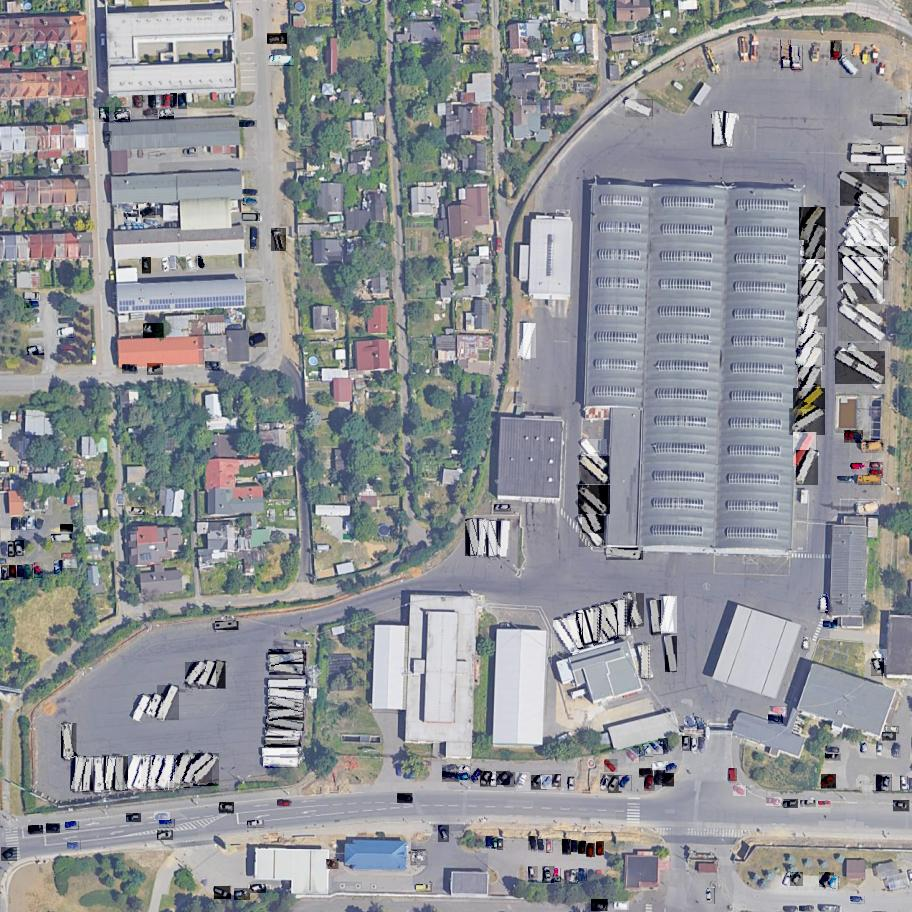large-vehicle: (849, 219, 891, 264), (838, 304, 886, 342), (844, 256, 885, 300), (843, 282, 879, 332), (839, 246, 890, 281), (847, 225, 883, 274), (840, 172, 891, 206), (835, 351, 885, 385), (848, 217, 900, 247), (790, 408, 826, 436), (848, 343, 880, 374), (793, 388, 825, 419), (798, 264, 828, 297), (795, 334, 825, 367), (180, 753, 212, 783), (860, 192, 891, 222), (798, 296, 828, 327), (582, 439, 611, 471), (578, 485, 610, 514), (800, 207, 827, 241), (800, 281, 826, 316), (554, 620, 580, 655), (579, 456, 610, 485), (579, 516, 607, 547), (801, 244, 825, 280), (193, 754, 219, 787), (591, 608, 617, 641), (798, 368, 821, 404), (582, 498, 605, 534), (799, 349, 823, 383), (794, 432, 818, 466), (158, 685, 180, 722), (859, 205, 890, 231), (796, 449, 818, 485), (517, 323, 538, 360), (576, 610, 596, 647), (485, 522, 505, 559), (805, 225, 825, 261), (623, 594, 644, 628), (268, 694, 306, 712), (802, 315, 820, 352), (466, 520, 484, 557), (147, 755, 165, 791), (71, 756, 89, 792), (723, 114, 740, 152), (660, 596, 677, 634), (172, 753, 190, 788), (125, 756, 143, 791), (265, 725, 302, 742), (269, 650, 306, 667), (266, 716, 305, 732), (112, 756, 129, 791), (185, 663, 208, 688), (713, 112, 728, 149), (133, 695, 152, 723), (839, 55, 862, 78), (569, 615, 584, 650), (62, 723, 77, 758), (477, 520, 491, 557), (626, 100, 654, 118), (199, 661, 217, 689), (606, 603, 620, 639), (665, 635, 678, 673), (270, 661, 305, 675), (161, 755, 175, 789), (269, 707, 305, 720), (268, 687, 304, 700), (83, 757, 96, 793), (607, 547, 643, 560), (104, 756, 117, 791), (870, 164, 907, 176), (211, 661, 227, 688), (873, 115, 908, 127), (139, 756, 151, 791), (500, 521, 511, 557), (861, 439, 885, 455), (149, 694, 164, 719), (262, 748, 298, 758), (268, 679, 307, 688), (94, 757, 104, 792), (263, 758, 298, 768), (652, 600, 662, 635), (856, 502, 879, 517), (851, 144, 882, 155), (265, 738, 300, 747), (792, 46, 804, 70), (590, 608, 598, 642), (781, 40, 791, 67), (830, 41, 843, 61), (642, 644, 649, 679), (618, 600, 625, 635), (851, 155, 881, 163), (215, 622, 239, 631), (858, 476, 881, 484), (251, 228, 259, 249)
small-vehicle: (271, 227, 287, 252), (144, 324, 165, 340), (267, 56, 295, 67), (516, 772, 531, 792), (608, 775, 623, 794), (845, 430, 865, 444), (470, 768, 486, 785), (250, 333, 269, 347), (2, 847, 18, 863), (871, 658, 885, 676), (600, 774, 614, 792), (214, 886, 232, 900), (821, 774, 837, 789), (532, 775, 548, 790), (541, 775, 557, 790), (619, 776, 634, 792), (873, 649, 887, 666), (893, 800, 911, 813), (242, 197, 260, 210), (411, 852, 429, 865), (268, 33, 289, 44), (820, 873, 835, 888), (626, 749, 641, 764), (496, 771, 511, 786), (684, 716, 698, 732), (28, 343, 45, 356), (591, 899, 609, 911), (186, 255, 198, 273), (147, 363, 165, 375), (182, 147, 200, 159), (439, 825, 451, 843), (605, 759, 620, 773), (782, 872, 795, 888), (235, 888, 251, 901), (647, 742, 663, 755), (480, 771, 493, 787), (140, 207, 157, 219), (126, 214, 143, 226), (543, 866, 554, 884), (790, 872, 804, 886), (159, 108, 175, 120), (32, 562, 44, 578), (504, 772, 516, 788), (867, 468, 884, 479), (766, 798, 783, 809), (143, 218, 160, 229), (117, 203, 134, 214), (142, 109, 159, 120), (157, 831, 174, 842), (397, 793, 414, 804), (663, 773, 676, 787), (891, 743, 903, 758), (570, 869, 582, 884), (56, 327, 74, 337), (250, 885, 268, 895), (634, 746, 646, 761), (196, 255, 207, 271), (205, 361, 221, 372), (23, 563, 34, 579), (652, 761, 668, 772), (655, 770, 666, 786), (219, 803, 235, 814), (443, 772, 459, 783), (771, 707, 788, 717), (410, 849, 427, 859), (883, 775, 893, 792), (178, 93, 188, 110), (734, 785, 748, 797), (132, 96, 144, 110), (123, 364, 138, 375), (63, 559, 78, 570), (645, 777, 656, 792), (67, 840, 82, 851), (784, 799, 800, 809), (51, 534, 71, 542), (163, 94, 173, 110), (658, 739, 668, 755), (528, 836, 538, 852), (28, 826, 44, 836), (443, 764, 459, 774), (577, 869, 588, 883), (643, 744, 654, 758), (458, 764, 472, 775), (850, 462, 867, 471), (877, 741, 886, 758), (494, 504, 511, 513), (826, 745, 841, 755), (860, 739, 870, 754), (639, 769, 654, 779), (586, 843, 596, 858), (115, 112, 130, 122), (46, 823, 61, 833), (529, 866, 538, 882), (155, 812, 171, 821), (823, 620, 837, 630), (28, 516, 38, 530), (326, 860, 340, 870), (552, 775, 562, 789), (100, 108, 110, 122), (820, 595, 828, 612), (143, 257, 151, 274), (248, 821, 265, 829), (768, 715, 783, 724), (850, 896, 865, 905), (682, 736, 691, 751), (698, 737, 707, 752), (131, 507, 146, 516), (54, 560, 63, 575), (562, 840, 571, 855), (115, 107, 130, 116), (695, 717, 705, 730), (11, 517, 21, 530), (147, 95, 157, 108), (665, 764, 678, 774), (901, 775, 909, 791), (133, 203, 149, 211), (124, 210, 140, 218), (615, 901, 629, 910), (578, 841, 587, 855), (65, 822, 79, 831), (885, 727, 900, 735), (24, 301, 39, 309), (159, 819, 174, 827), (127, 814, 142, 822), (243, 214, 260, 221), (239, 120, 256, 127), (491, 837, 500, 850), (242, 189, 258, 196), (8, 541, 15, 557), (16, 540, 23, 556), (568, 776, 575, 791), (883, 733, 896, 741), (596, 842, 604, 855), (104, 132, 112, 145), (877, 774, 883, 791), (564, 870, 571, 884), (163, 258, 170, 272), (25, 293, 39, 300), (1, 566, 8, 580), (417, 884, 431, 891), (538, 840, 546, 852), (803, 637, 810, 650), (708, 889, 714, 904), (801, 800, 816, 806), (831, 876, 838, 888), (826, 754, 840, 760), (21, 518, 28, 530), (572, 841, 579, 853), (490, 772, 496, 786), (117, 495, 125, 505), (799, 906, 812, 912), (870, 463, 883, 469), (818, 801, 831, 807), (171, 93, 177, 106), (60, 525, 73, 531), (18, 566, 25, 577), (10, 565, 16, 577), (278, 800, 290, 806), (838, 477, 852, 482), (157, 95, 162, 109), (459, 773, 469, 780), (730, 769, 736, 780), (692, 738, 697, 751), (171, 256, 176, 269), (486, 837, 493, 846), (555, 869, 560, 881), (498, 838, 503, 850), (547, 840, 552, 852)
